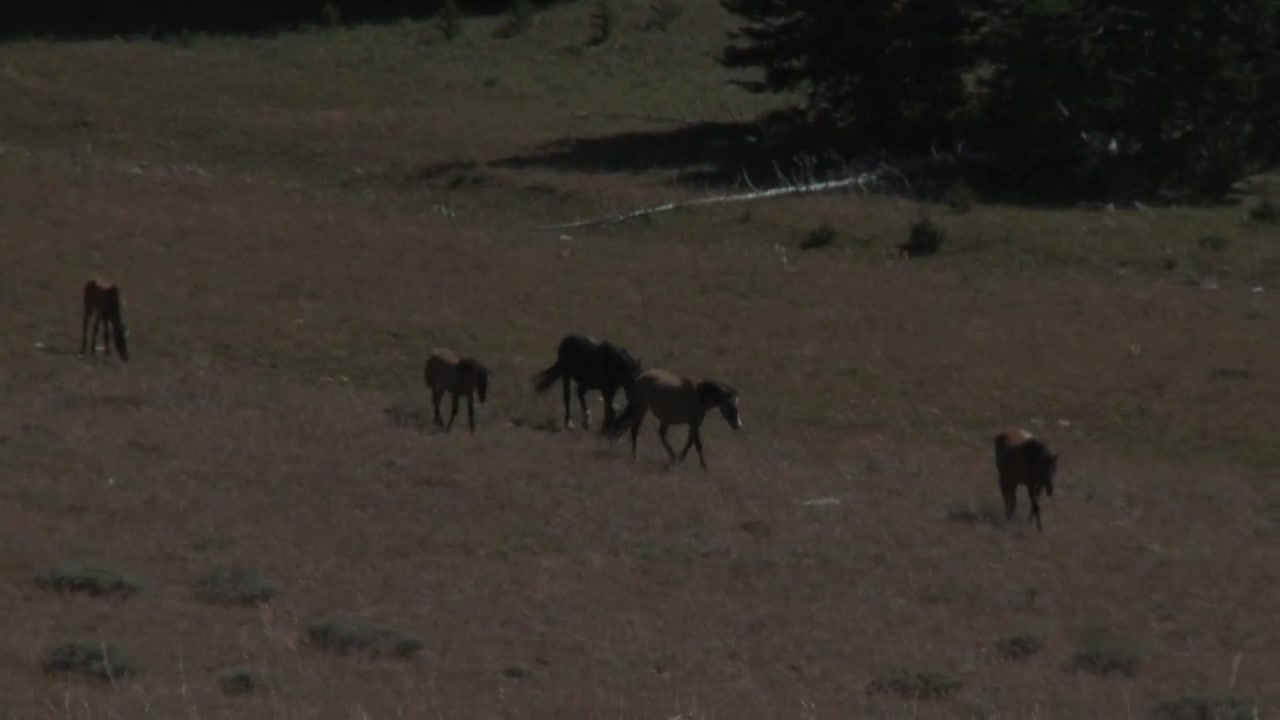horse: (613, 366, 748, 472), (530, 327, 655, 439), (991, 425, 1065, 533), (417, 342, 494, 440), (77, 277, 138, 365)
